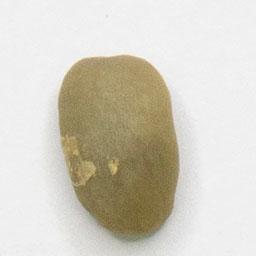premium: (55, 52, 183, 245)
